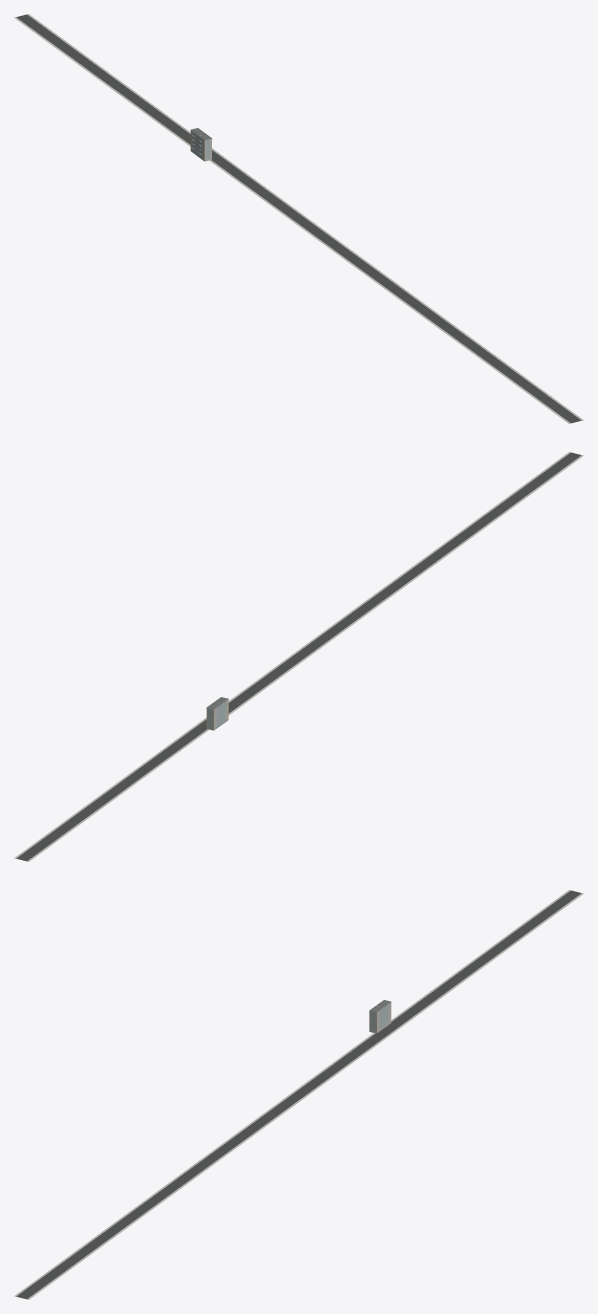
File: tile-p003-p000.glb
The picture shows the model from 3 angles, top to bottom: view 1: azimuth 30°, elevation 25°; view 2: azimuth 150°, elevation 25°; view 3: azimuth 330°, elevation 25°; orthographic projection.
Visible parts, largest first — view 1: road-v-19-mesh-1, road-v-19-mesh-0; view 2: road-v-19-mesh-1, road-v-19-mesh-0; view 3: road-v-19-mesh-1, road-v-19-mesh-0.
Boxes of the visible parts, left/top/right/bottom form: road-v-19-mesh-1: left=16, top=14, right=581, bottom=423; road-v-19-mesh-0: left=14, top=14, right=583, bottom=423; road-v-19-mesh-1: left=16, top=452, right=581, bottom=861; road-v-19-mesh-0: left=14, top=452, right=583, bottom=861; road-v-19-mesh-1: left=16, top=890, right=581, bottom=1299; road-v-19-mesh-0: left=14, top=890, right=583, bottom=1299.
Size of the model in its own units: 33.89 by 34.95 by 1600.
